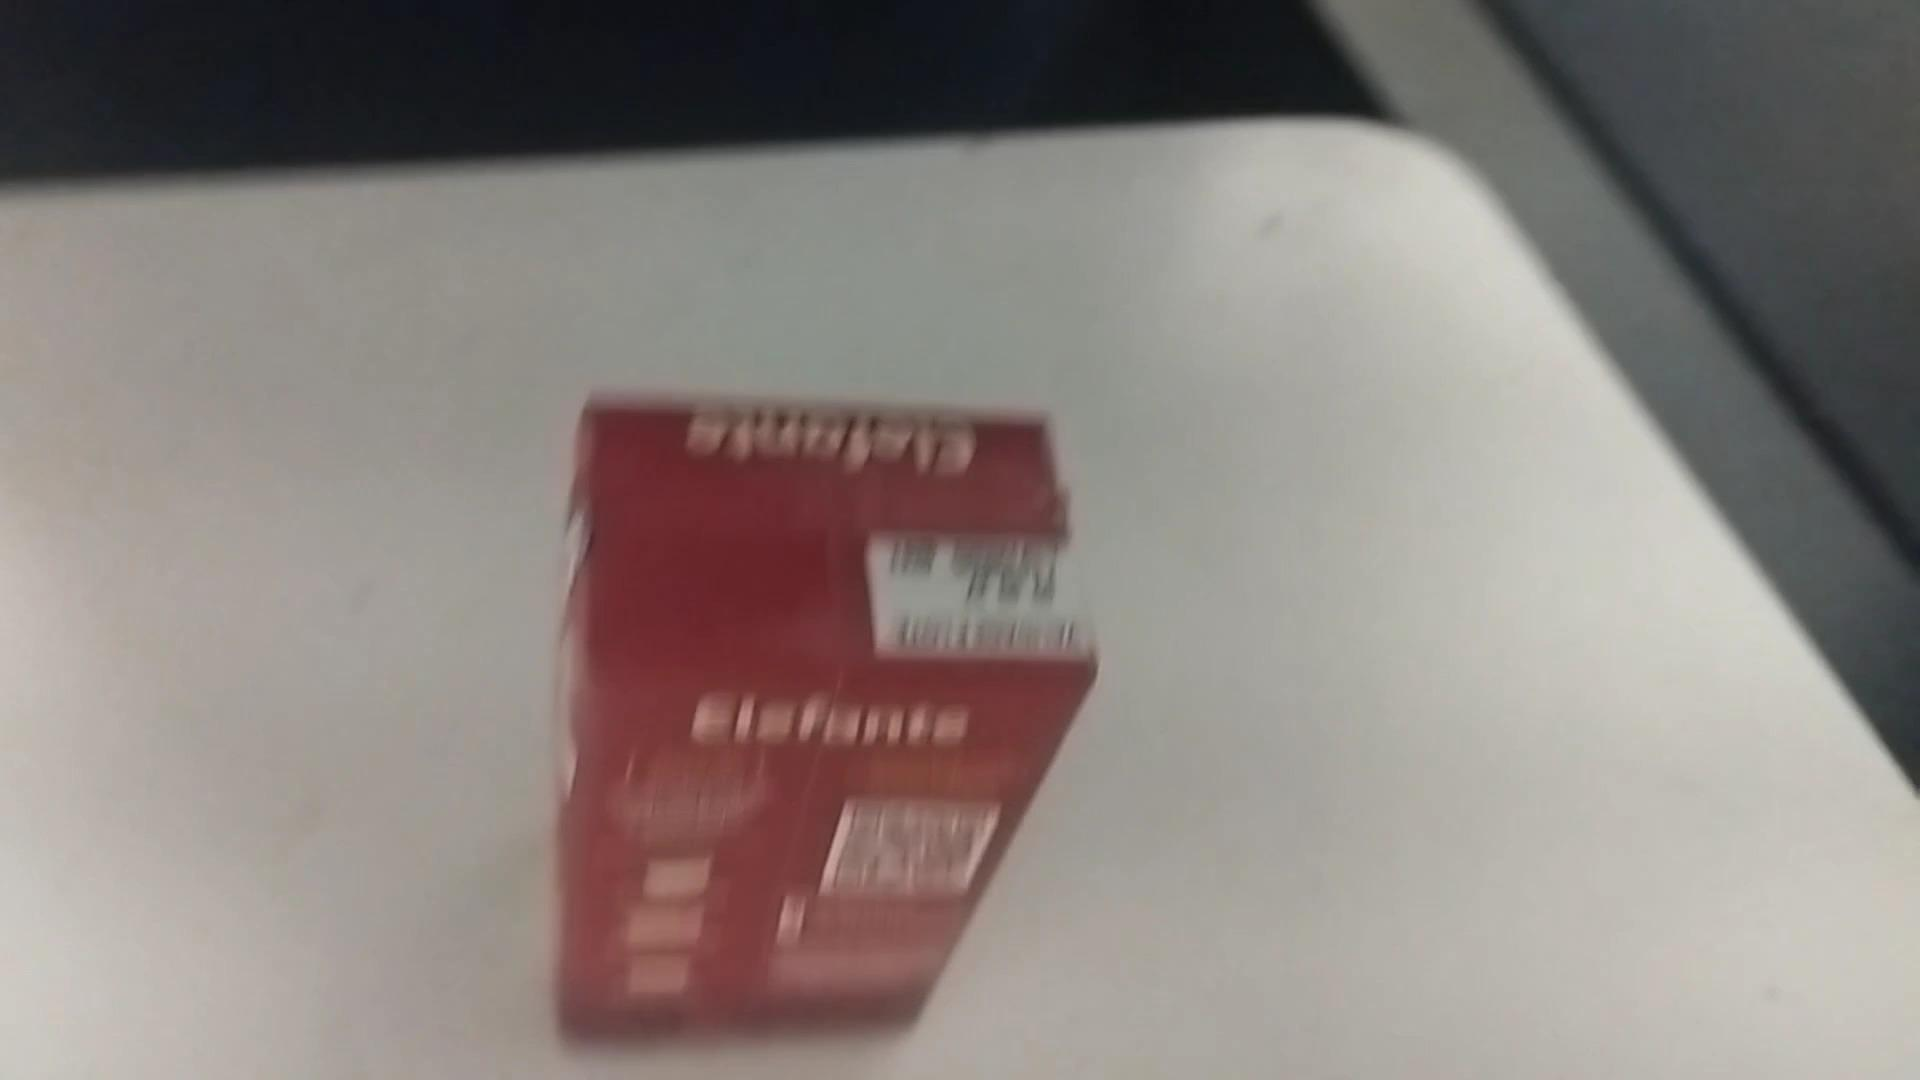tomate: (524, 378, 1127, 1052)
